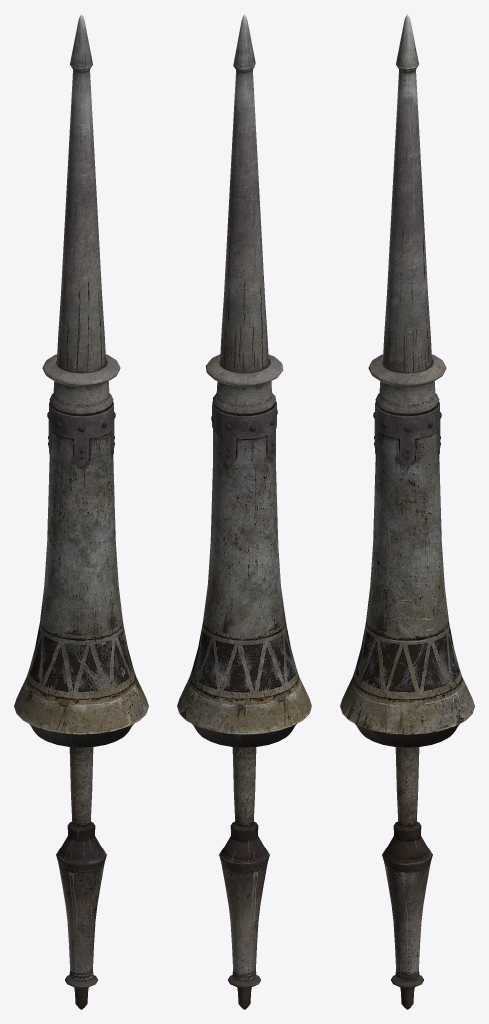
Rendered from bs_lan001.obj.
The picture shows the model from 3 angles, left to right: view 1: azimuth 90°, elevation 25°; view 2: azimuth 150°, elevation 25°; view 3: azimuth 270°, elevation 25°; orthographic projection.
Visible parts, largest first — view 1: bs_lan001_002_LOD_1, bs_lan001_003_LOD_1, bs_lan001_001_LOD_1, bs_lan001_000_LOD_1; view 2: bs_lan001_002_LOD_1, bs_lan001_003_LOD_1, bs_lan001_001_LOD_1, bs_lan001_000_LOD_1; view 3: bs_lan001_002_LOD_1, bs_lan001_003_LOD_1, bs_lan001_001_LOD_1, bs_lan001_000_LOD_1.
Part boxes in pixels (x1=…): bs_lan001_002_LOD_1: x1=14, y1=401, x2=148, y2=747; bs_lan001_003_LOD_1: x1=57, y1=14, x2=105, y2=372; bs_lan001_001_LOD_1: x1=56, y1=747, x2=106, y2=1009; bs_lan001_000_LOD_1: x1=42, y1=354, x2=120, y2=414; bs_lan001_002_LOD_1: x1=177, y1=401, x2=311, y2=747; bs_lan001_003_LOD_1: x1=220, y1=14, x2=268, y2=372; bs_lan001_001_LOD_1: x1=219, y1=747, x2=269, y2=1009; bs_lan001_000_LOD_1: x1=205, y1=354, x2=283, y2=414; bs_lan001_002_LOD_1: x1=340, y1=401, x2=474, y2=747; bs_lan001_003_LOD_1: x1=383, y1=14, x2=431, y2=372; bs_lan001_001_LOD_1: x1=382, y1=747, x2=432, y2=1009; bs_lan001_000_LOD_1: x1=368, y1=354, x2=446, y2=414.
Size of the model in its own units: 45.26 by 369 by 45.26.
